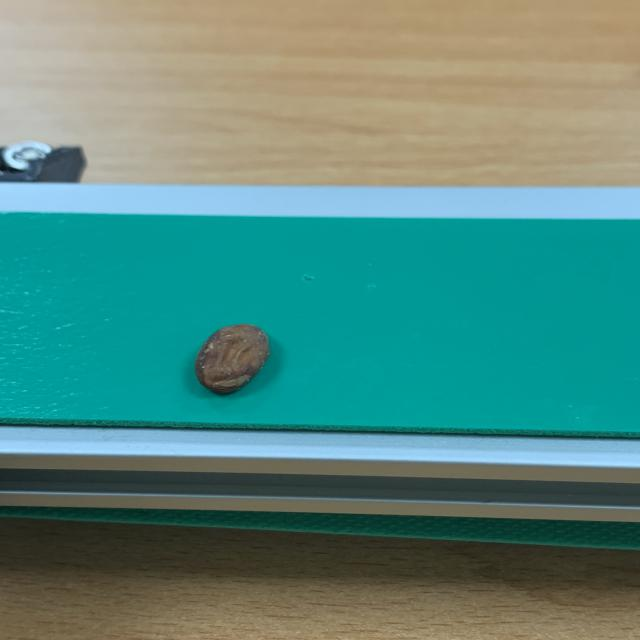Flat_cocoabeans: (96, 296, 338, 414)
